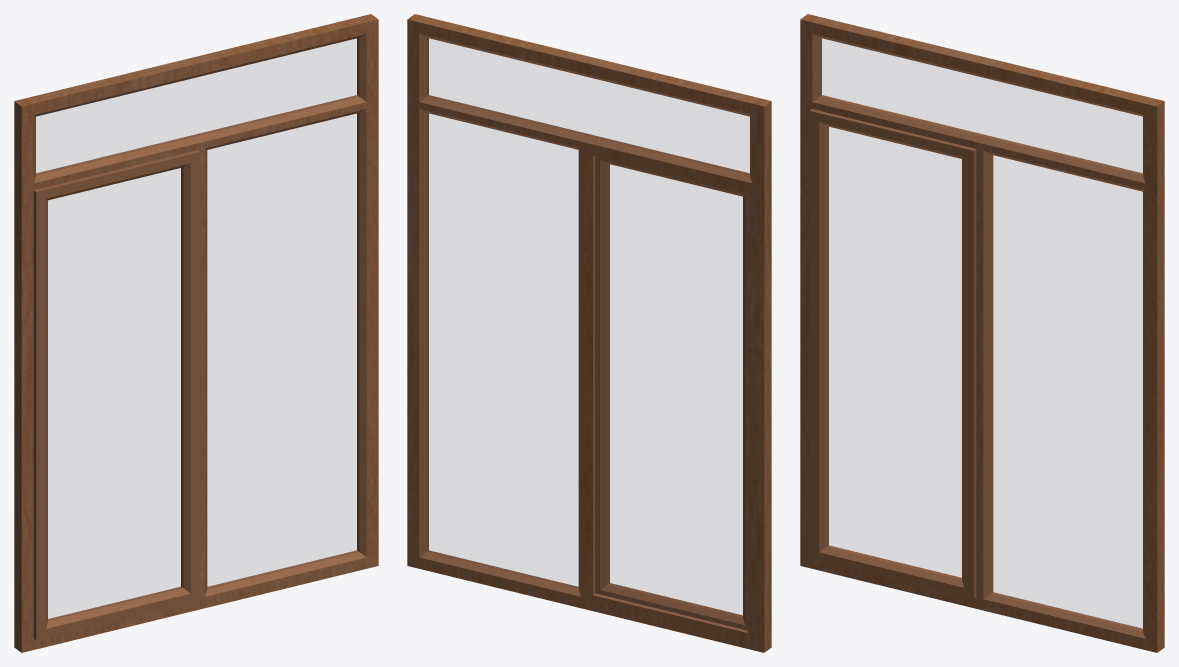
The model's file is window6.dae.
3 views of the same model, side by side, from view 1: azimuth 30°, elevation 25°; view 2: azimuth 150°, elevation 25°; view 3: azimuth 330°, elevation 25° (orthographic).
Visible parts, largest first — view 1: group_0.004; view 2: group_0.004; view 3: group_0.004.
Boxes of the visible parts, x1,y1,x2,y2 form: group_0.004: [14, 14, 378, 652]; group_0.004: [407, 14, 771, 652]; group_0.004: [800, 14, 1164, 652].
Bounding box in the file's own units: 0.6946 × 0.0339 × 1.02.
Materials: 2 (1 with a texture image).
